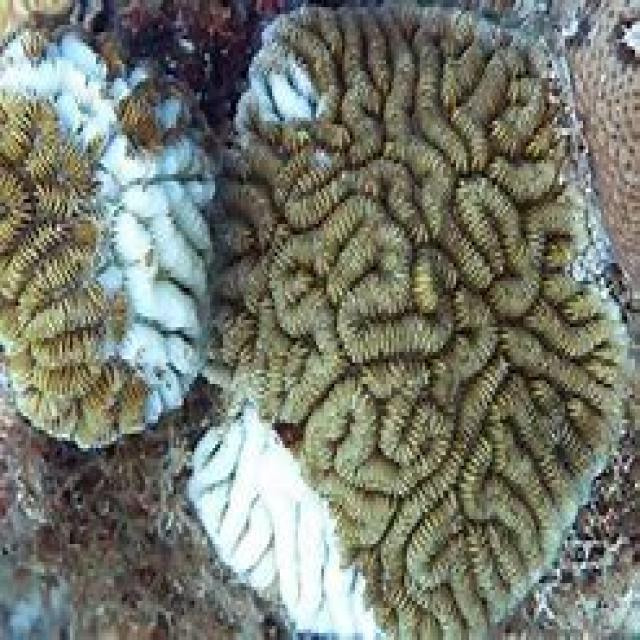Coral: (186, 0, 632, 640), (0, 28, 218, 451), (565, 0, 640, 288)
